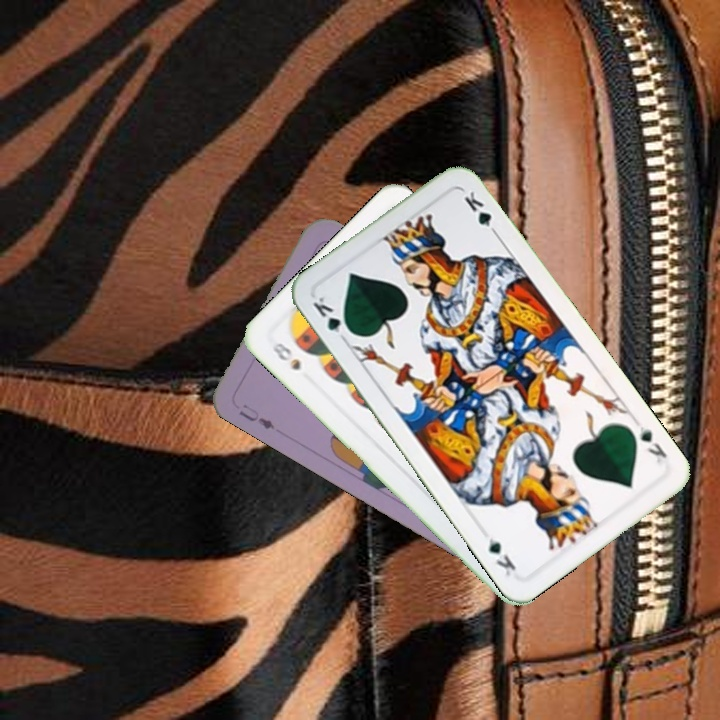EU: (234, 400, 278, 433)
GK: (308, 292, 356, 345), (635, 422, 670, 466)
S8: (268, 338, 304, 374)
